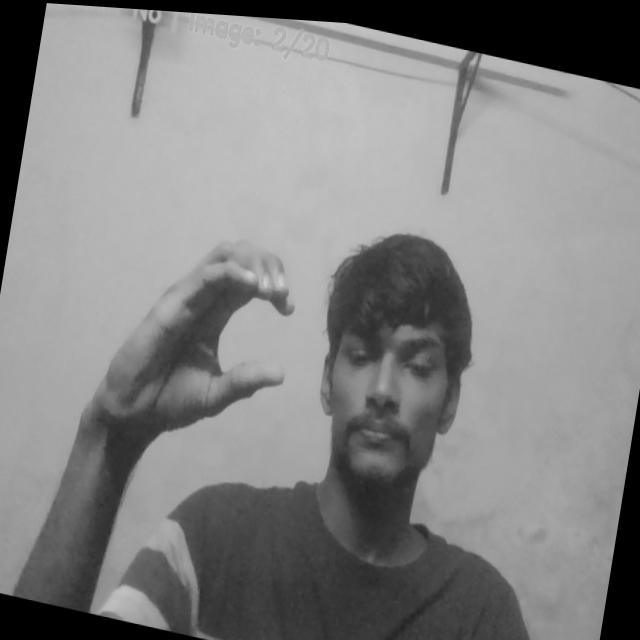No: (90, 196, 307, 472)
